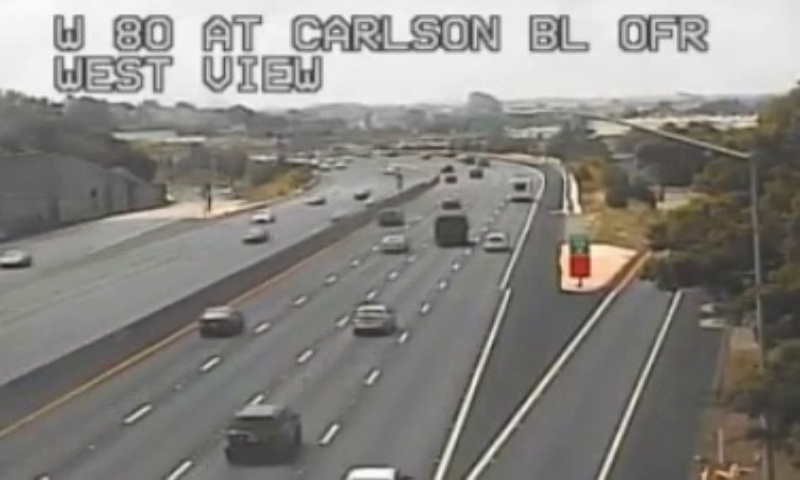car: (227, 407, 300, 461), (200, 306, 242, 336), (353, 304, 393, 335)
